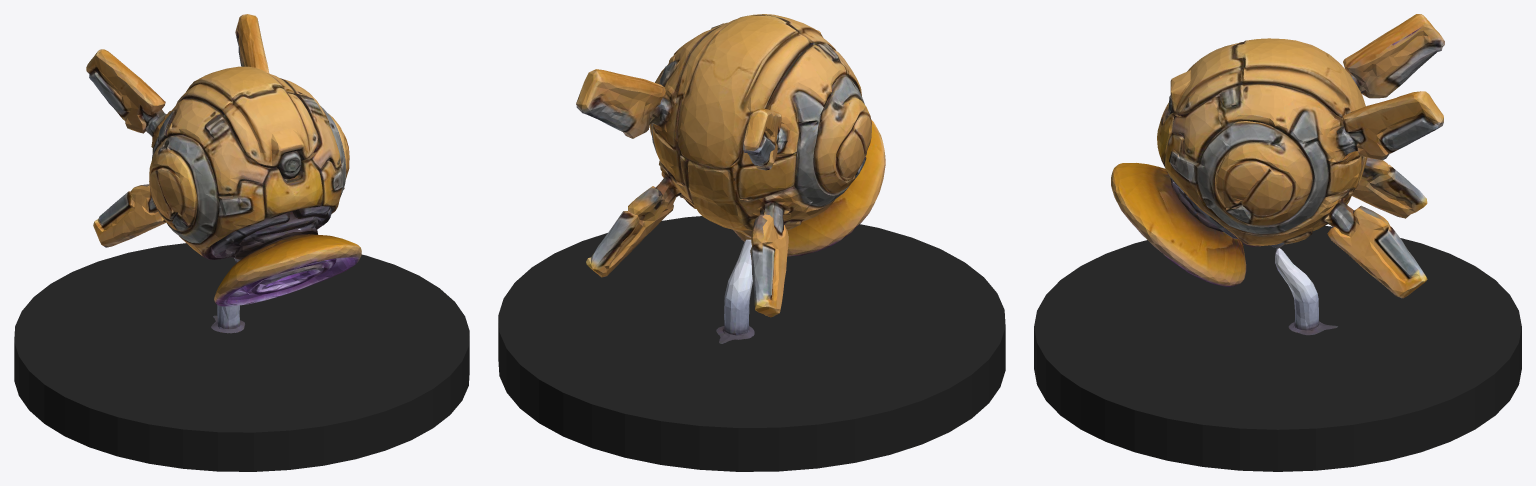
The model's file is pf-mv33-grav-inhibitor-drone.glb.
3 renders of one model, left to right at view 1: azimuth 30°, elevation 25°; view 2: azimuth 150°, elevation 25°; view 3: azimuth 270°, elevation 25°, orthographic. The views are drawn at different scales.
Parts seen in each view (by area): view 1: base, figure; view 2: base, figure; view 3: base, figure.
Part boxes in pixels (x1,y1,x2,y2): base: (14,243,469,471); figure: (86,14,361,333); base: (498,216,1005,471); figure: (576,14,885,343); base: (1034,226,1521,471); figure: (1111,14,1444,335).
Size of the model in its own units: 1.26 by 0.92 by 1.26.
Materials: 2 (1 with a texture image).
